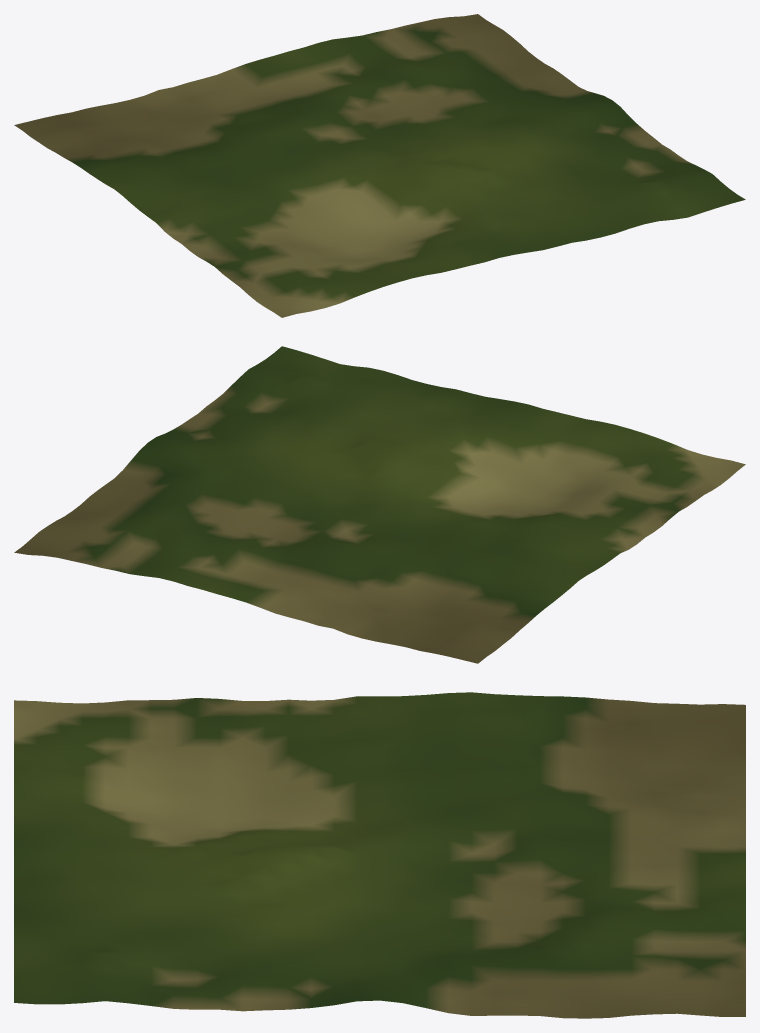
Rendered from terrain_lod0_-2_-2.obj.
3 views of the same model, one above another, from view 1: azimuth 30°, elevation 25°; view 2: azimuth 150°, elevation 25°; view 3: azimuth 270°, elevation 25° (orthographic). The views are drawn at different scales.
Visible parts, largest first — view 1: terrain_lod0_-2_-2; view 2: terrain_lod0_-2_-2; view 3: terrain_lod0_-2_-2.
Part boxes in pixels (left/top/right/bottom): terrain_lod0_-2_-2: left=14, top=14, right=745, bottom=317; terrain_lod0_-2_-2: left=14, top=346, right=745, bottom=663; terrain_lod0_-2_-2: left=14, top=692, right=745, bottom=1018.
Size of the model in its own units: 128 by 6.39 by 128.
